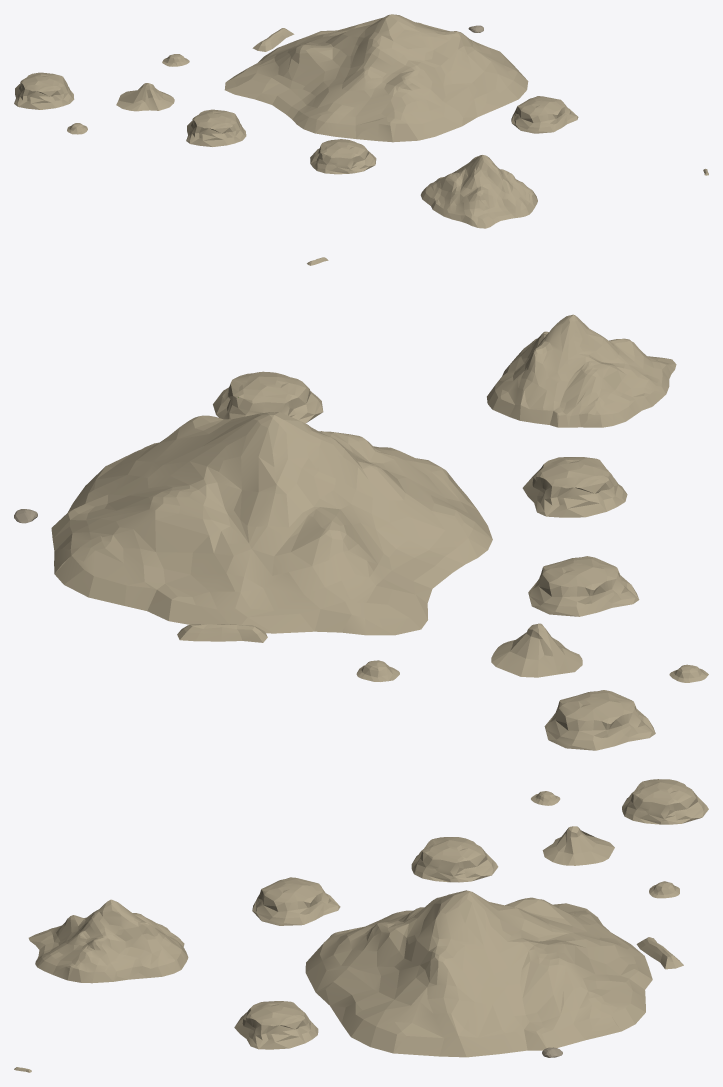
Rendered from Probuilder_Desert_Steppable.fbx.
The picture shows the model from 3 angles, top to bottom: view 1: azimuth 30°, elevation 25°; view 2: azimuth 150°, elevation 25°; view 3: azimuth 270°, elevation 25°; orthographic projection. The views are drawn at different scales.
Parts seen in each view (by area): view 1: SM_Terrain_Mountain_01, SM_Terrain_Mountain_01__1_, SM_Terrain_GrassEdge_04__1_, SM_Terrain_GrassEdge_04__2_, SM_Terrain_GrassEdge_04__3_, SM_Terrain_GrassEdge_04, SM_Terrain_DustPile_Small_02, SM_Terrain_DustPile_Long_01__1_; view 2: SM_Terrain_Mountain_01, SM_Terrain_Mountain_01__1_, SM_Terrain_GrassEdge_04__3_, SM_Terrain_GrassEdge_04, SM_Terrain_GrassEdge_04__2_, SM_Terrain_GrassEdge_04__1_, SM_Terrain_DustPile_Small_02, SM_Terrain_DustPile_Long_01__1_; view 3: SM_Terrain_Mountain_01, SM_Terrain_Mountain_01__1_, SM_Terrain_GrassEdge_04__2_, SM_Terrain_GrassEdge_04__1_, SM_Terrain_GrassEdge_04, SM_Terrain_GrassEdge_04__3_, SM_Terrain_DustPile_Small_02, SM_Terrain_DustPile_Long_01__1_.
Part boxes in pixels (x1,y1,x2,y2): SM_Terrain_Mountain_01: [224, 14, 528, 142]; SM_Terrain_Mountain_01__1_: [420, 155, 537, 228]; SM_Terrain_GrassEdge_04__1_: [511, 96, 578, 133]; SM_Terrain_GrassEdge_04__2_: [310, 139, 376, 174]; SM_Terrain_GrassEdge_04__3_: [14, 72, 74, 109]; SM_Terrain_GrassEdge_04: [186, 109, 246, 146]; SM_Terrain_DustPile_Small_02: [116, 83, 174, 111]; SM_Terrain_DustPile_Long_01__1_: [252, 28, 294, 51]; SM_Terrain_Mountain_01: [51, 412, 492, 635]; SM_Terrain_Mountain_01__1_: [487, 314, 676, 427]; SM_Terrain_GrassEdge_04__3_: [544, 690, 655, 750]; SM_Terrain_GrassEdge_04: [528, 556, 639, 616]; SM_Terrain_GrassEdge_04__2_: [522, 457, 627, 517]; SM_Terrain_GrassEdge_04__1_: [213, 371, 323, 423]; SM_Terrain_DustPile_Small_02: [491, 623, 582, 677]; SM_Terrain_DustPile_Long_01__1_: [177, 624, 267, 642]; SM_Terrain_Mountain_01: [305, 890, 652, 1057]; SM_Terrain_Mountain_01__1_: [28, 899, 188, 983]; SM_Terrain_GrassEdge_04__2_: [252, 877, 340, 925]; SM_Terrain_GrassEdge_04__1_: [234, 1001, 318, 1049]; SM_Terrain_GrassEdge_04: [411, 837, 498, 882]; SM_Terrain_GrassEdge_04__3_: [622, 779, 708, 824]; SM_Terrain_DustPile_Small_02: [542, 826, 614, 865]; SM_Terrain_DustPile_Long_01__1_: [636, 937, 683, 969].
Bounding box in the file's own units: 1789 × 273 × 1837.
2 materials, 2 textured.
